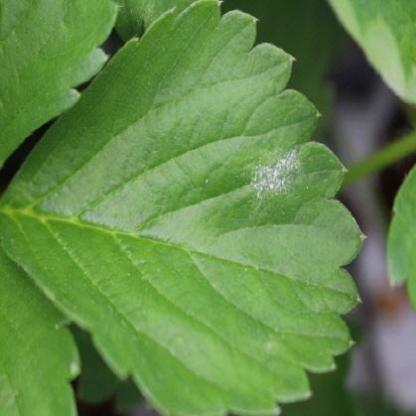Strawberry_Powdery_Mildew_Leaf: (0, 0, 370, 416)
